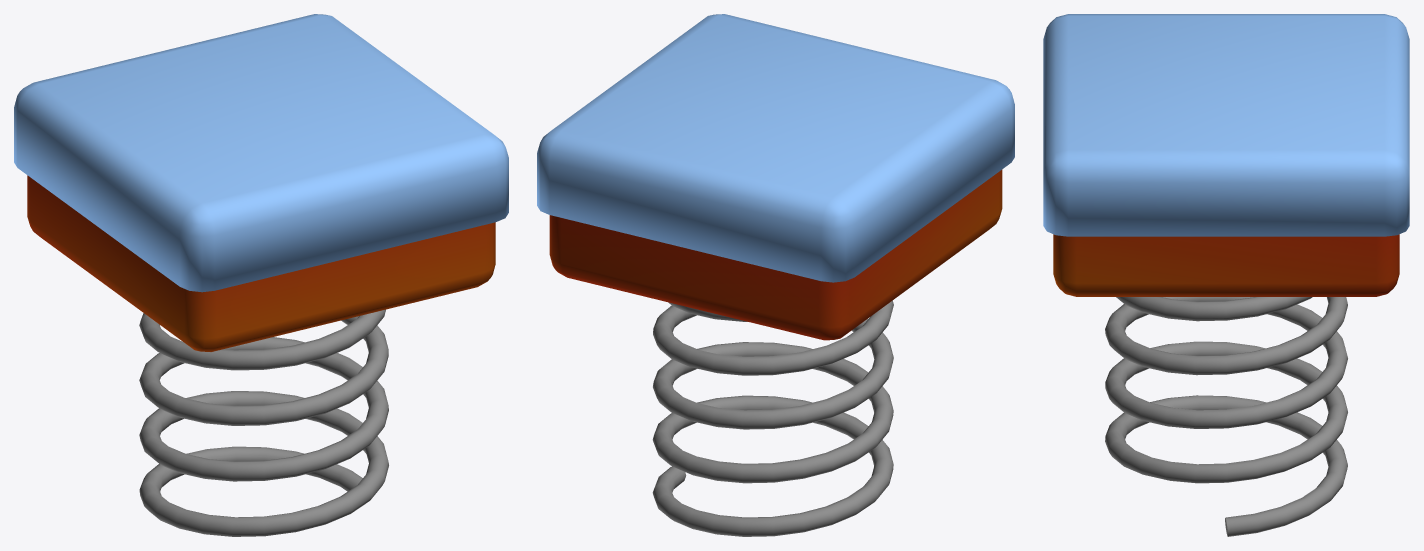
The model's file is platformspringblue.glb.
3 views of the same model, side by side, from view 1: azimuth 30°, elevation 25°; view 2: azimuth 150°, elevation 25°; view 3: azimuth 270°, elevation 25° (orthographic). The views are drawn at different scales.
Visible parts, largest first — view 1: Spiral.003; view 2: Spiral.003; view 3: Spiral.003.
Part boxes in pixels (x1,y1,x2,y2): Spiral.003: [14, 14, 508, 536]; Spiral.003: [537, 14, 1014, 536]; Spiral.003: [1043, 14, 1409, 536].
Size of the model in its own units: 0.3934 by 0.4792 by 0.3934.
Materials: 1 (1 with a texture image).
